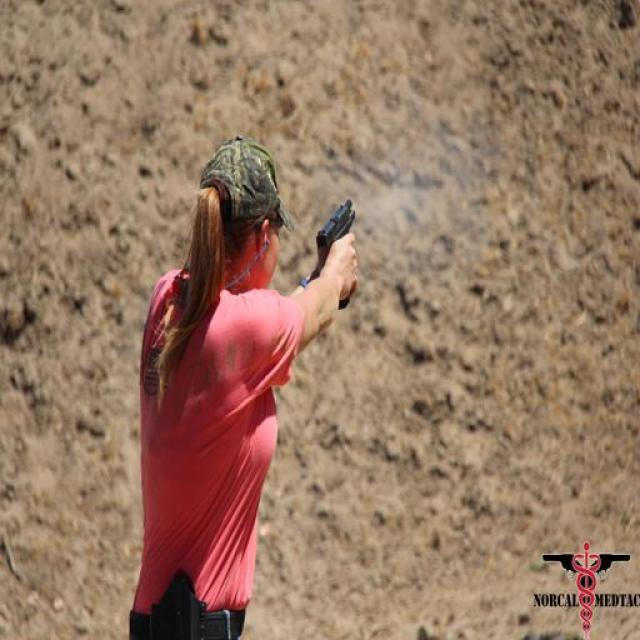pistol: (315, 194, 357, 313)
